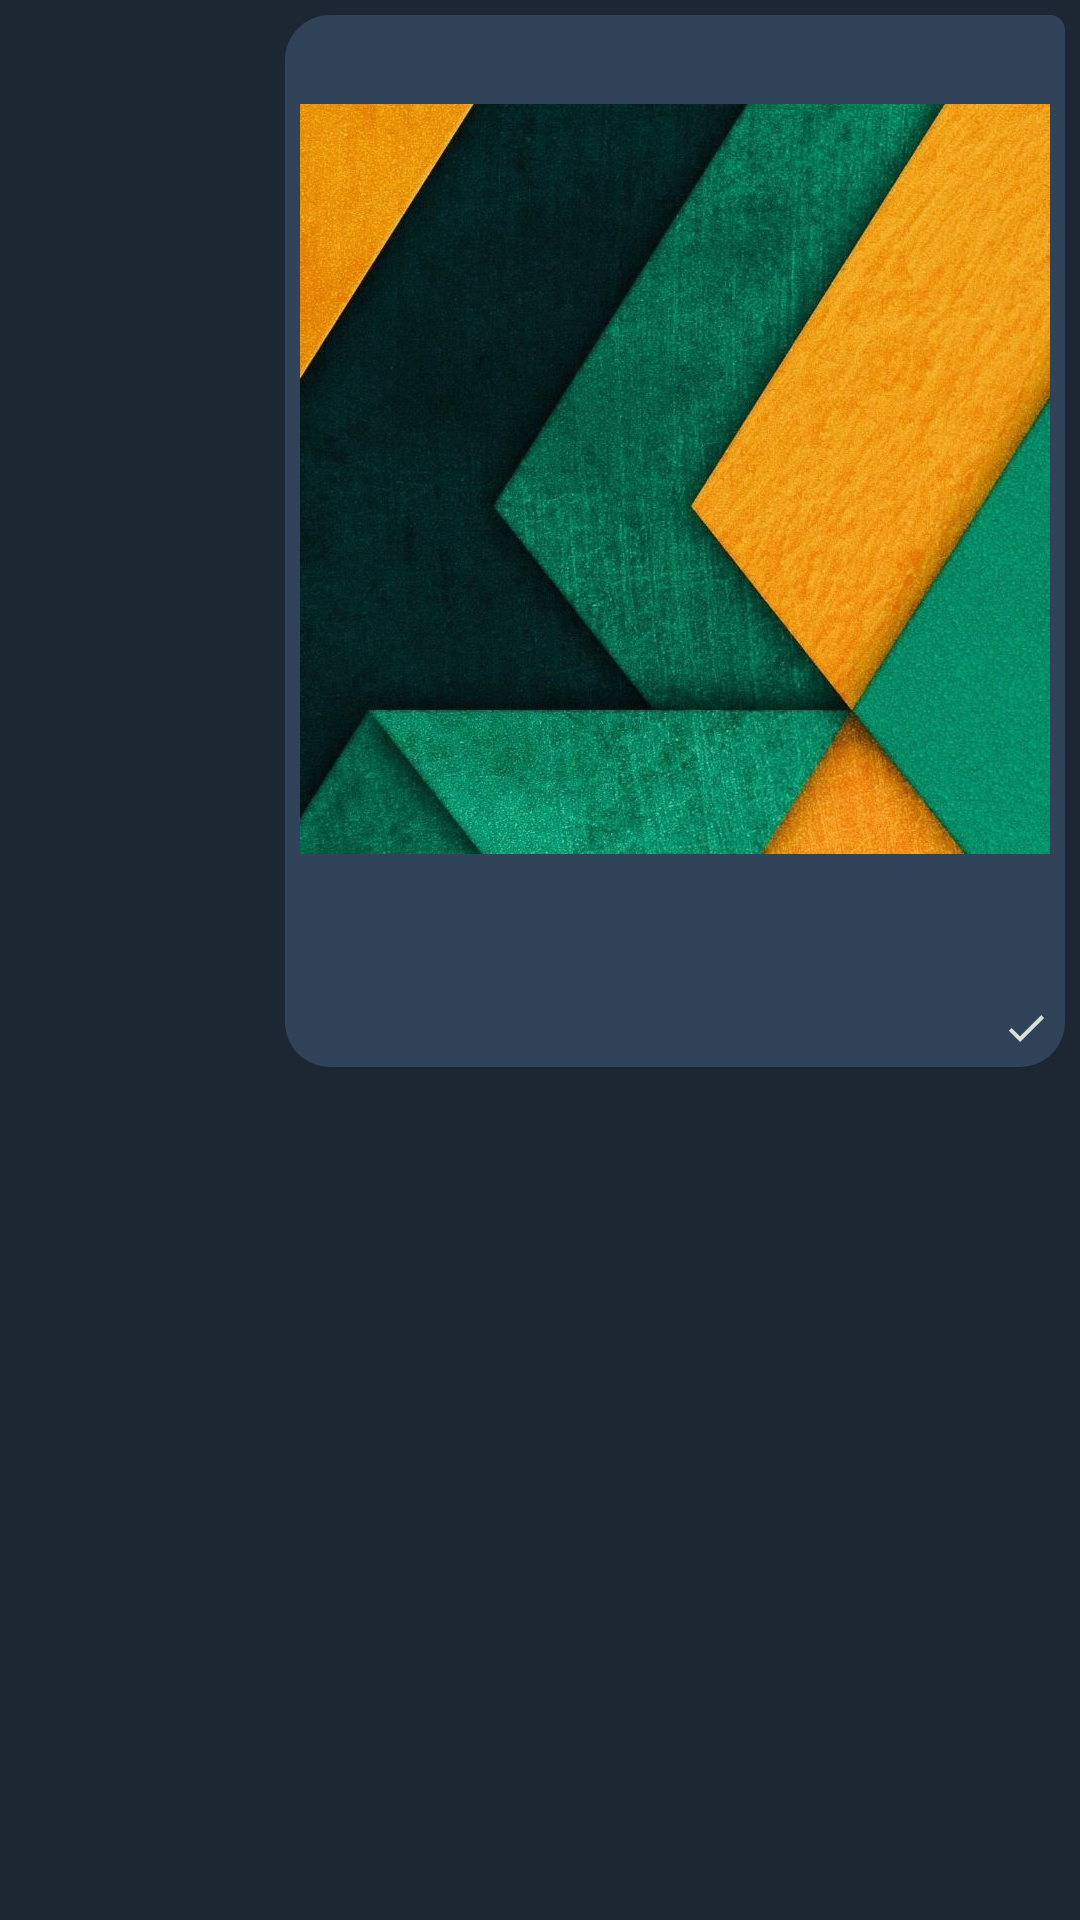

Icon bounding boxes for this 1080w x 1920h phone screenshot, format (x1, y1, x2, y2):
done: (1009, 1015, 1044, 1042)
